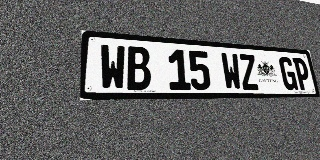1: (167, 49, 191, 90)
5: (188, 50, 211, 90)
B: (126, 46, 152, 90)
G: (278, 57, 298, 90)
P: (292, 58, 312, 90)
W: (100, 44, 126, 90), (220, 53, 243, 90)
Z: (238, 54, 260, 90)
